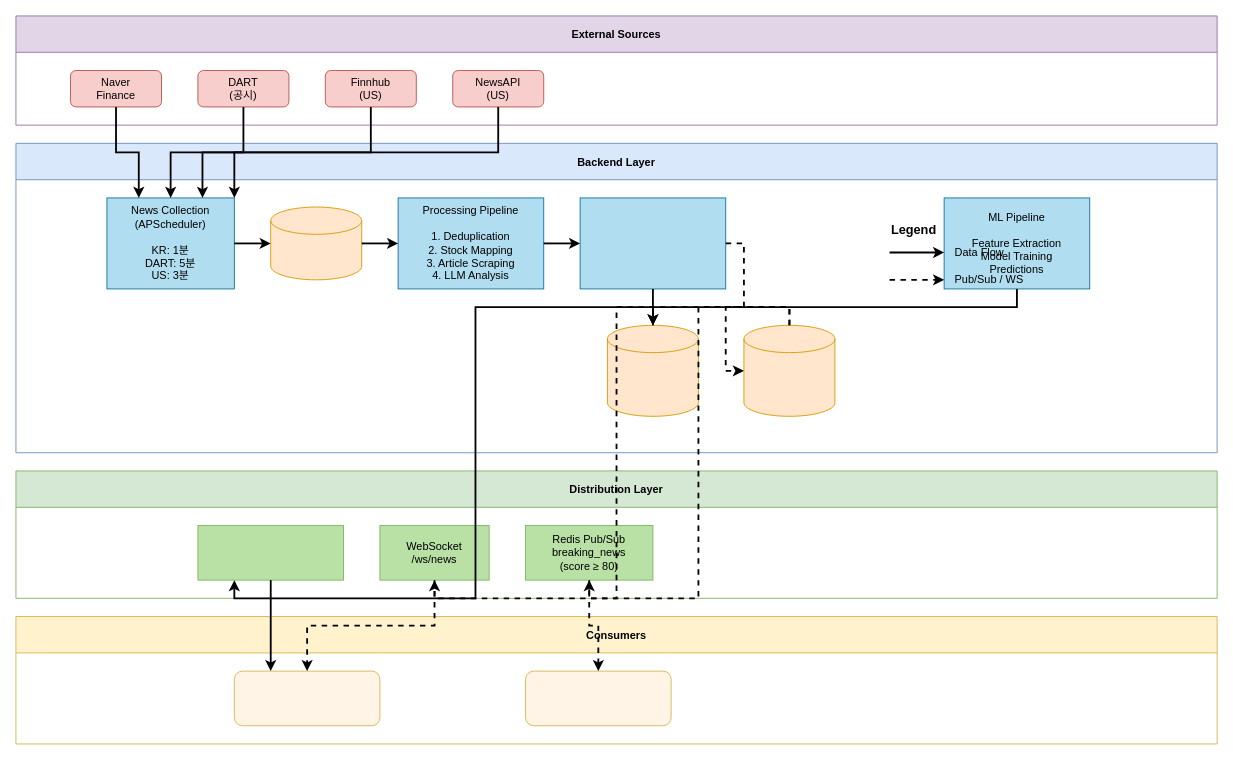
The diagram is 1233 pixels wide and 760 high, and some of its shapes have lost their labels. The centre of each missing label's shape, as x and y in pixels:
Frontend React Dashboard • Stock Detail • Theme Analysis • Real-time Updates: the point at 306,698
PostgreSQL news_event theme_strength: the point at 652,370
Raw News (Memory): the point at 316,243
Redis Cache Pub/Sub: the point at 789,370
REST API /api/v1/news/* /api/v1/stocks/* /api/v1/themes/*: the point at 270,552
Scoring Engine Recency × 0.4 Frequency × 0.3 Sentiment × 0.2 Disclosure × 0.1: the point at 652,243
StockAgent • Buy Signal Decision • Breaking News Alert • Redis Subscriber: the point at 598,698
